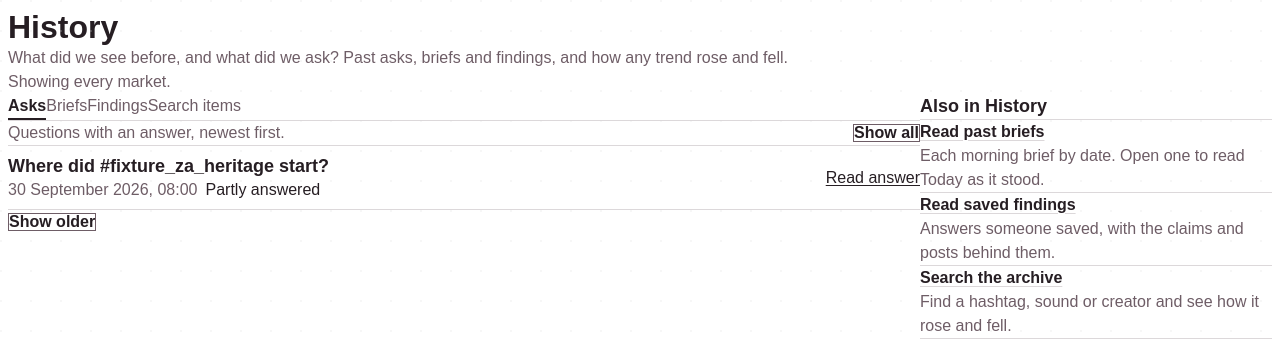
History opens on answered Asks; Show all and Show older use only loaded pages
Expected: the heading "History" is shown, [8,9,118,45]
Click the button "Show all": (887, 133) [853,124,920,142]
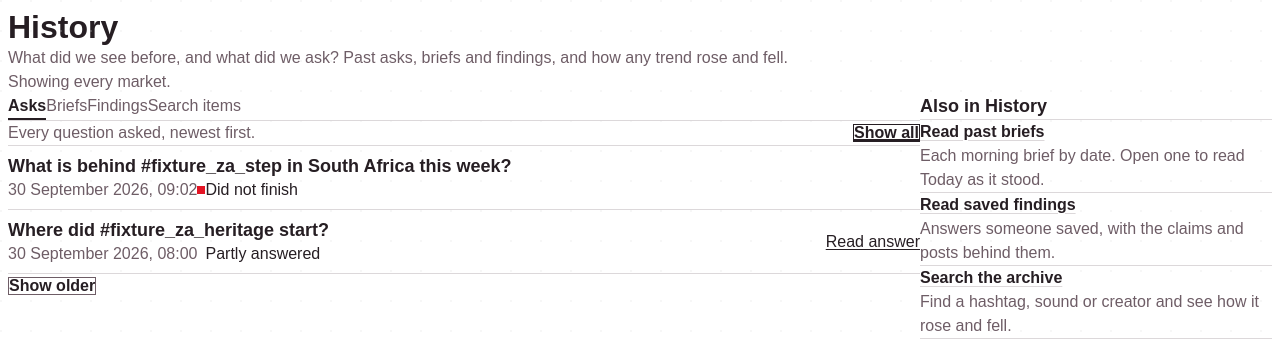
Expected: the button "Show all" is pressed
Click the button "Show all": (887, 133) [853,124,920,142]
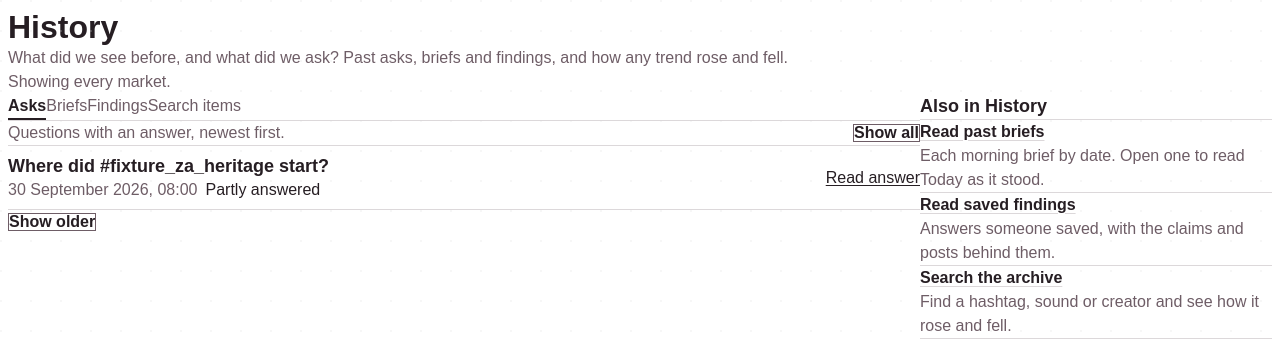
Click the button "Show older": (52, 222) [8,213,96,231]
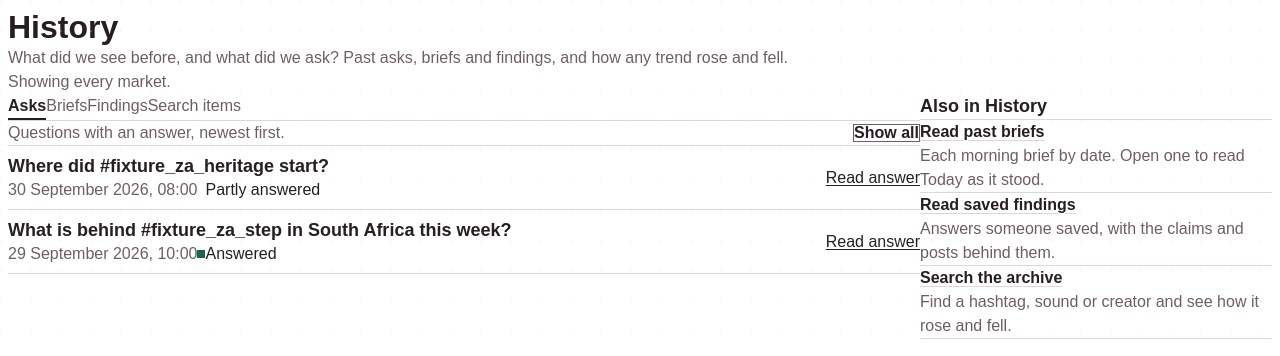
Expected: the 4th list item shows "Answered", [206,245,277,262]
